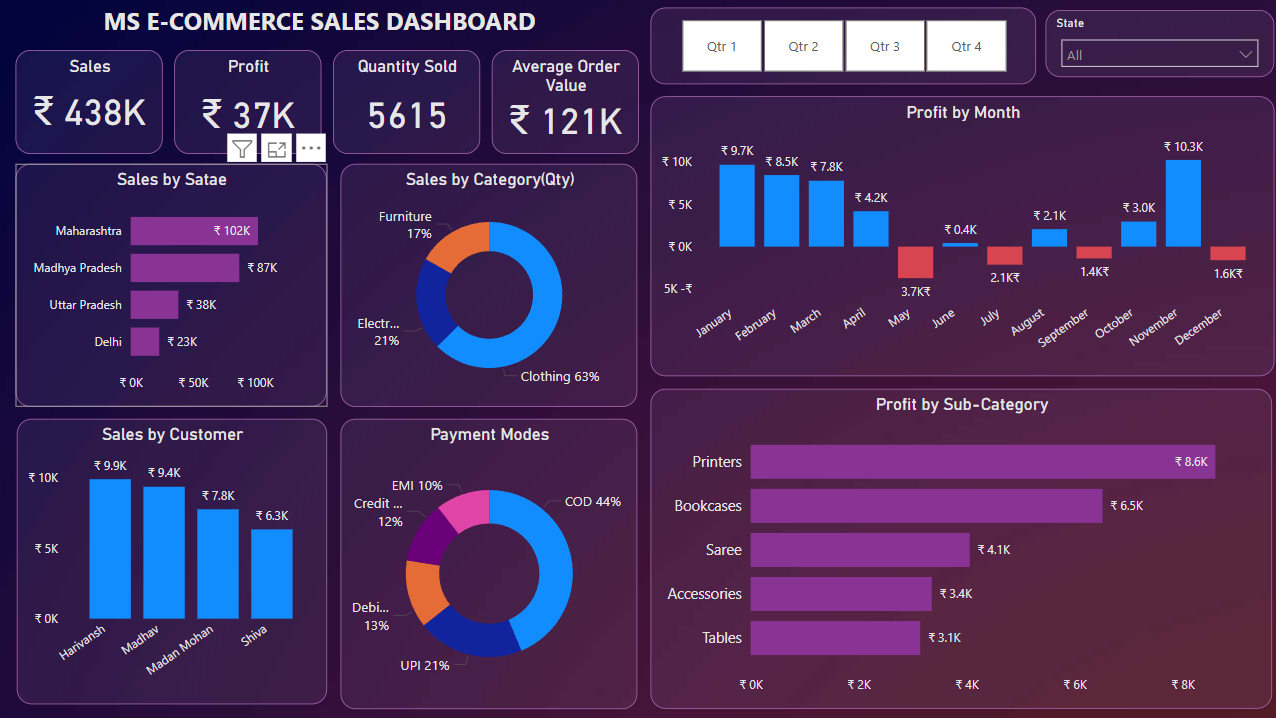

What the dashboard file says about the page in this screenshot:
{"tool":"powerbi","page":{"name":"Page 1","canvas":[1280,720],"ordinal":0},"visuals":[{"type":"textbox","box":[10,0,622.9,48.6],"z":0},{"type":"columnChart","title":"Profit by Month","fields":{"Category":["Orders.Order Date.Variation.Date Hierarchy.Month"],"Y":["Details.Profit"]},"box":[652.9,95.7,624.3,280],"z":1000},{"type":"barChart","title":"Profit by Sub-Category","fields":{"Category":["Details.Sub-Category"],"Y":["Details.Profit"]},"box":[652.9,388.6,621.4,320],"z":2000},{"type":"donutChart","title":"Sales by Category(Qty)","fields":{"Category":["Details.Category"],"Y":["Details.Quantity"]},"box":[342.9,164.3,297.1,242.9],"z":3000},{"type":"donutChart","title":"Payment Modes","fields":{"Y":["Details.Quantity"],"Category":["Details.PaymentMode"]},"box":[342.9,418.6,297.1,290],"z":4000},{"type":"card","title":"Sales","fields":{"Values":["Details.Amount"]},"box":[17.5,49.8,147.1,104.3],"z":5000},{"type":"card","title":"Quantity Sold","fields":{"Values":["Details.Quantity"]},"box":[334.7,50,147,104],"z":6000},{"type":"card","title":"Profit","fields":{"Values":["Details.Profit"]},"box":[176.2,50,147,104],"z":7000},{"type":"card","title":"Average Order Value","fields":{"Values":["Details.AOV"]},"box":[493.2,50,147,104],"z":8000},{"type":"barChart","title":"Sales by Satae","fields":{"Category":["Orders.State"],"Y":["Details.Amount"]},"box":[17.1,164.3,311.4,242.9],"z":9000},{"type":"columnChart","title":"Sales by Customer","fields":{"Category":["Orders.CustomerName"],"Y":["Details.Amount"]},"box":[18.6,418.6,310,285.7],"z":10000},{"type":"slicer","fields":{"Values":["Orders.Order Date.Variation.Date Hierarchy.Quarter"]},"box":[652.9,7.1,385.7,77.1],"z":10001},{"type":"slicer","title":"State","fields":{"Values":["Orders.State"]},"box":[1047.1,10,228.6,67.1],"z":10002}]}

Visuals, with their boxes in screenshot pixels (x1, y1, x2, y2), scaled from the page's 1280x720 canvas onto the 1276x718 screenshot:
textbox: [x1=10, y1=0, x2=631, y2=48]
"Profit by Month" columnChart: [x1=651, y1=95, x2=1273, y2=375]
"Profit by Sub-Category" barChart: [x1=651, y1=388, x2=1270, y2=707]
"Sales by Category(Qty)" donutChart: [x1=342, y1=164, x2=638, y2=406]
"Payment Modes" donutChart: [x1=342, y1=417, x2=638, y2=707]
"Sales" card: [x1=17, y1=50, x2=164, y2=154]
"Quantity Sold" card: [x1=334, y1=50, x2=480, y2=154]
"Profit" card: [x1=176, y1=50, x2=322, y2=154]
"Average Order Value" card: [x1=492, y1=50, x2=638, y2=154]
"Sales by Satae" barChart: [x1=17, y1=164, x2=327, y2=406]
"Sales by Customer" columnChart: [x1=19, y1=417, x2=328, y2=702]
slicer - Orders.Order Date.Variation.Date Hierarchy.Quarter: [x1=651, y1=7, x2=1035, y2=84]
"State" slicer: [x1=1044, y1=10, x2=1272, y2=77]
